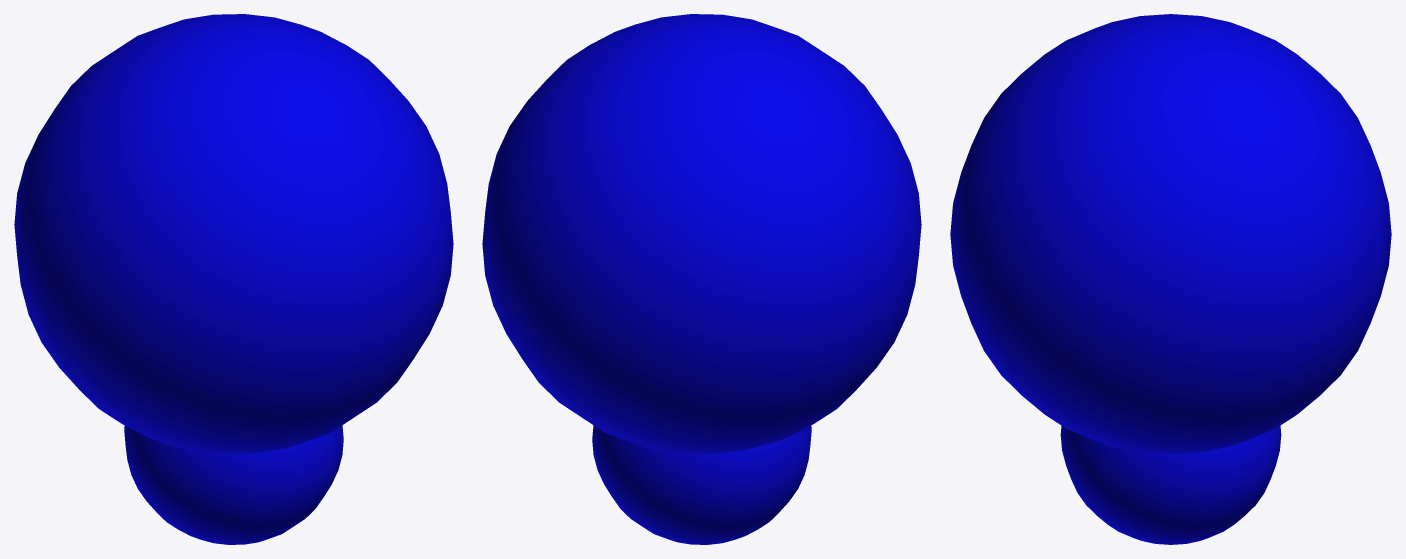
File: enemy.fbx
3 renders of one model, left to right at view 1: azimuth 30°, elevation 25°; view 2: azimuth 150°, elevation 25°; view 3: azimuth 270°, elevation 25°, orthographic.
Visible parts, largest first — view 1: pSphere3; view 2: pSphere3; view 3: pSphere3.
Part boxes in pixels (bbox=[...]): pSphere3: bbox=[14, 14, 453, 544]; pSphere3: bbox=[482, 14, 921, 544]; pSphere3: bbox=[950, 14, 1391, 544].
Bounding box in the file's own units: 2 × 2.5 × 2.
